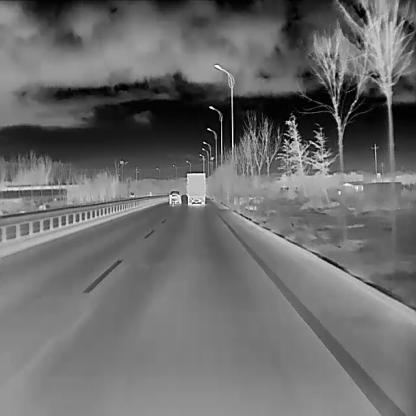car: (186, 171, 206, 205), (169, 190, 182, 203)
